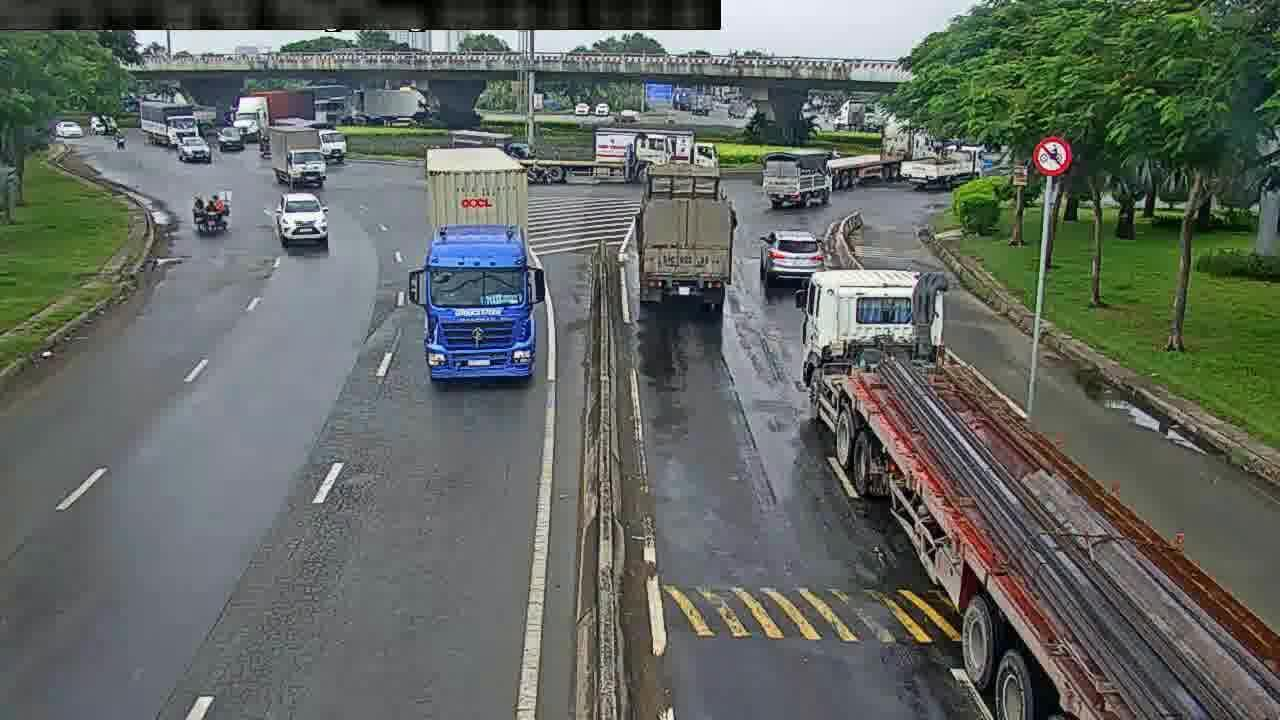8: (798, 267, 1280, 720), (404, 146, 547, 402), (636, 157, 740, 305), (589, 121, 715, 168), (758, 151, 836, 207), (263, 120, 333, 181), (140, 101, 197, 142)
container: (752, 228, 832, 284), (274, 193, 333, 252)
